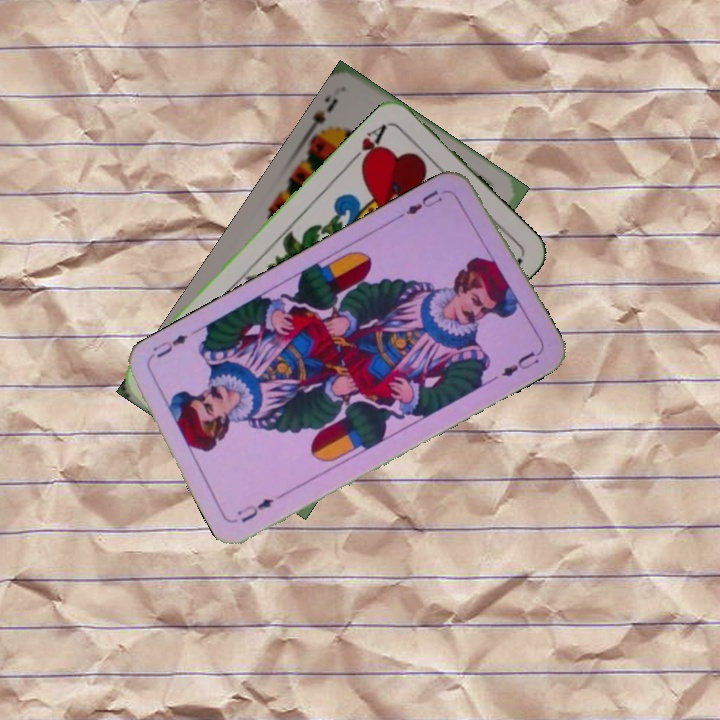EU: (233, 489, 288, 526), (397, 185, 450, 221)
HA: (345, 119, 390, 170)
S9: (300, 93, 341, 143)
